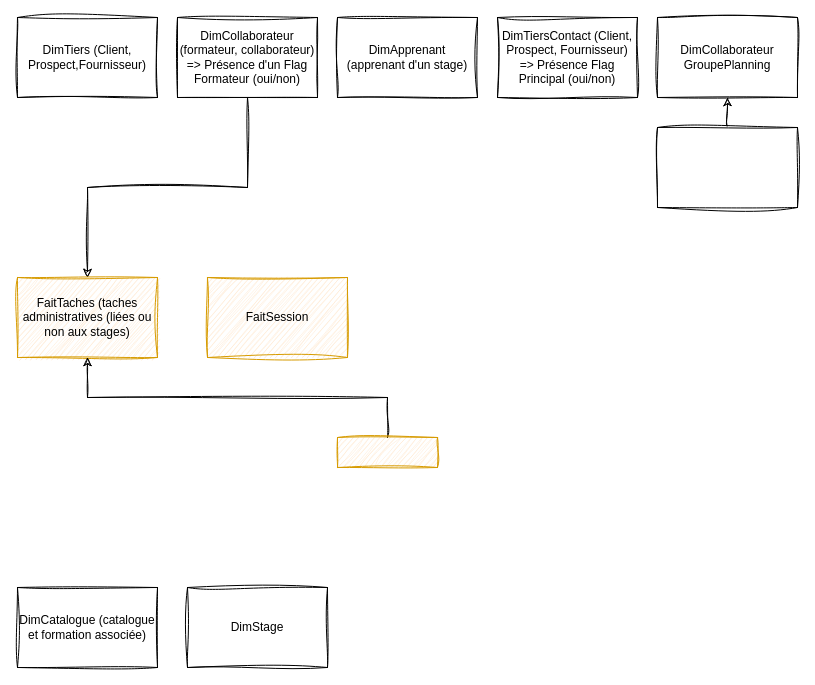
The diagram is 815 pixels wide and 685 high, and some of its shapes have lost their labels. The shapes that lost their labels are listed below. From the top down, each one's centre as x and y in pixels, then its label:
the point at 727,167: Dim GroupePlanning
the point at 387,452: DimPeriode
